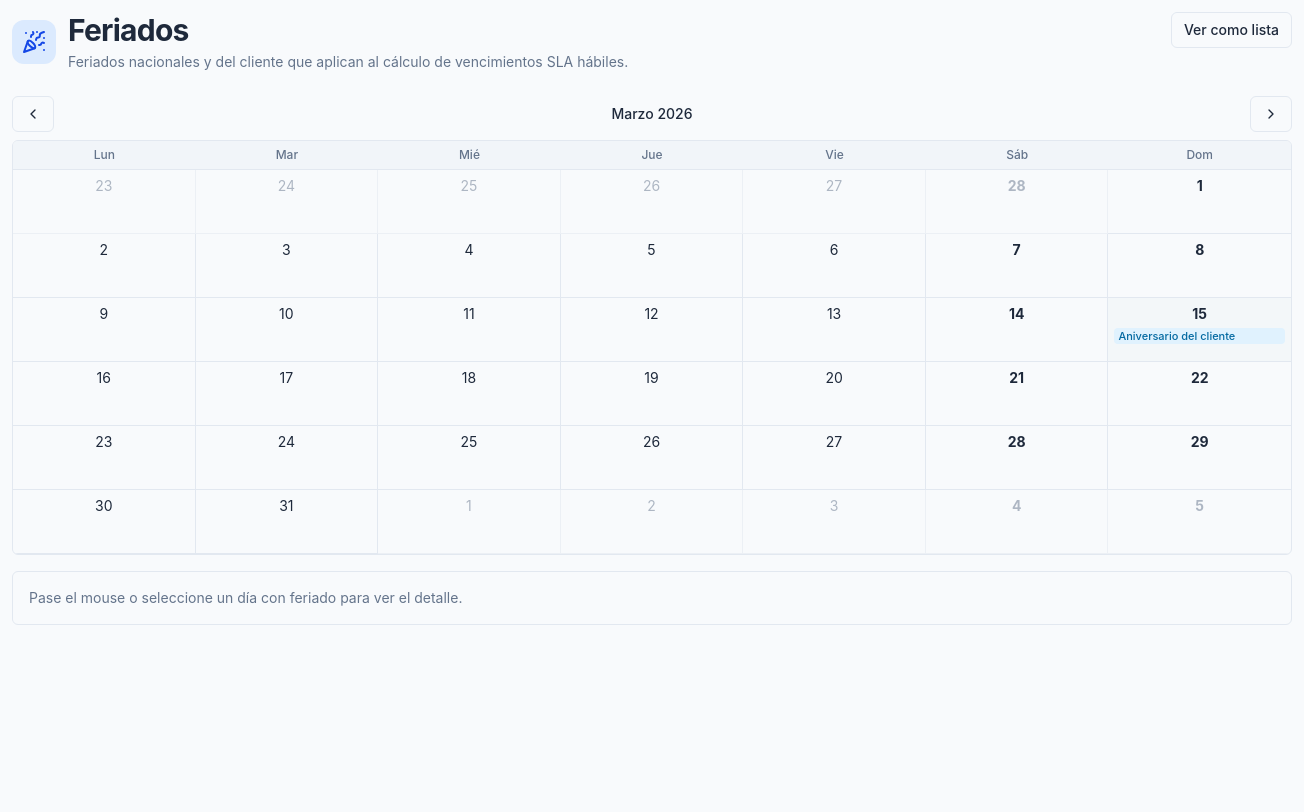
it: FeriadosListView (/feriados, task 8.1, WU8a) › TECNICO sin permisos ve la lista combinada, sin gate de admin
This screenshot has width=1304, height=812.
What coordinates should you click on to do the following:
click the button "Ver como lista"
I would click on:
 (1231, 30)
Its box is [1171,12,1292,48].
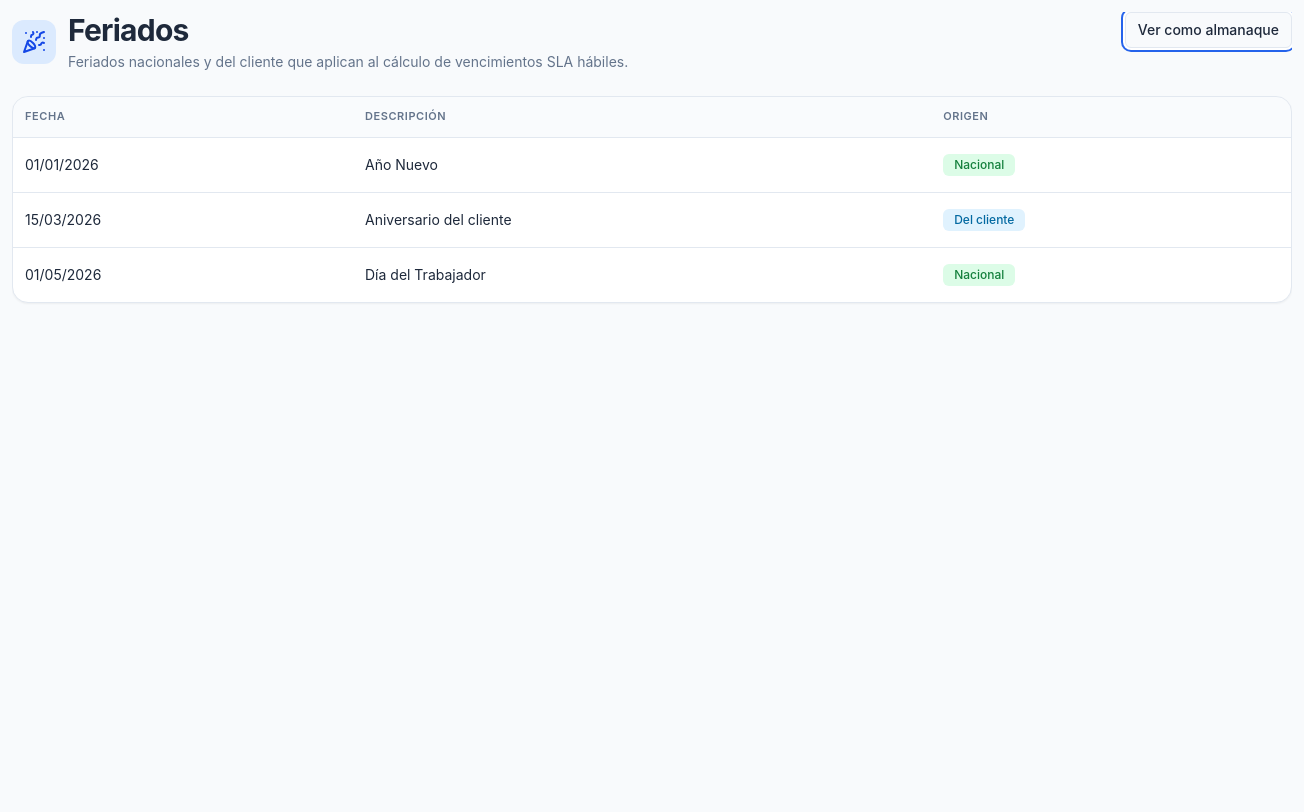
Expected: the text "Aniversario del cliente" is shown, [353,192,931,247]
Result: the text "Año Nuevo" is shown at [353,137,931,192]
Result: the text "Día del Trabajador" is shown at [353,247,931,302]
